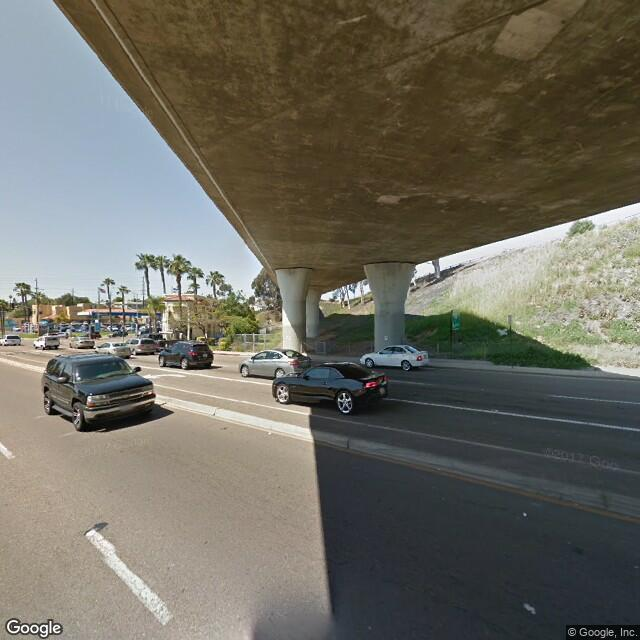litter: (519, 508, 528, 516)
